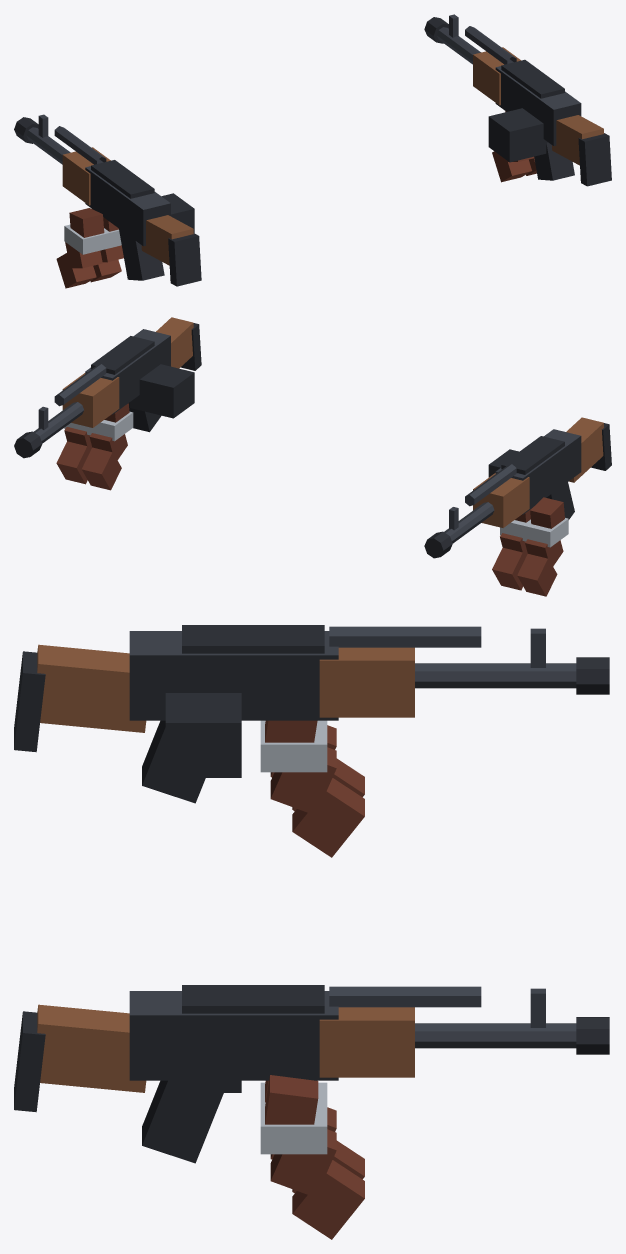
The model's file is G_Mermo_2.fbx.
The picture shows the model from 3 angles, top to bottom: view 1: azimuth 30°, elevation 25°; view 2: azimuth 150°, elevation 25°; view 3: azimuth 270°, elevation 25°; orthographic projection. The views are drawn at different scales.
Parts seen in each view (by area): view 1: G_Mermo_2; view 2: G_Mermo_2; view 3: G_Mermo_2.
Boxes of the visible parts, x1,y1,x2,y2 form: G_Mermo_2: [14, 14, 611, 288]; G_Mermo_2: [14, 317, 611, 596]; G_Mermo_2: [14, 625, 609, 1239].
Bounding box in the file's own units: 1.33 × 0.3224 × 0.7863.
